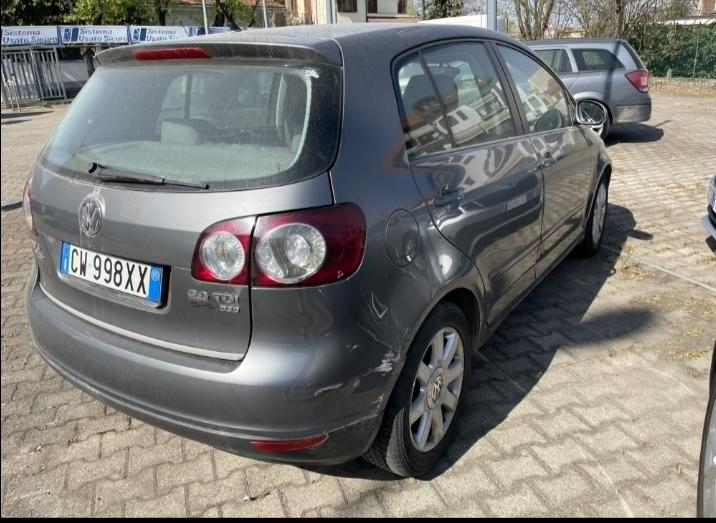Back-bumper: (25, 254, 406, 467)
Back-door: (391, 38, 543, 325)
Back-wheel: (362, 300, 472, 479)
Back-window: (421, 42, 517, 147), (394, 53, 451, 158)
Back-windshield: (40, 57, 343, 193)
Fender: (577, 125, 612, 232)
Front-door: (489, 40, 591, 281)
Front-wheel: (576, 171, 608, 258)
Front-window: (496, 44, 572, 133)
License-plate: (59, 241, 164, 308)
Mirror: (568, 97, 608, 126)
Quarter-panel: (330, 159, 487, 357)
Rocker-panel: (477, 228, 585, 352)
Roof: (199, 22, 528, 70)
Tail-light: (191, 202, 368, 289), (23, 181, 38, 237)
Trunk: (28, 161, 334, 362), (92, 34, 342, 70)
